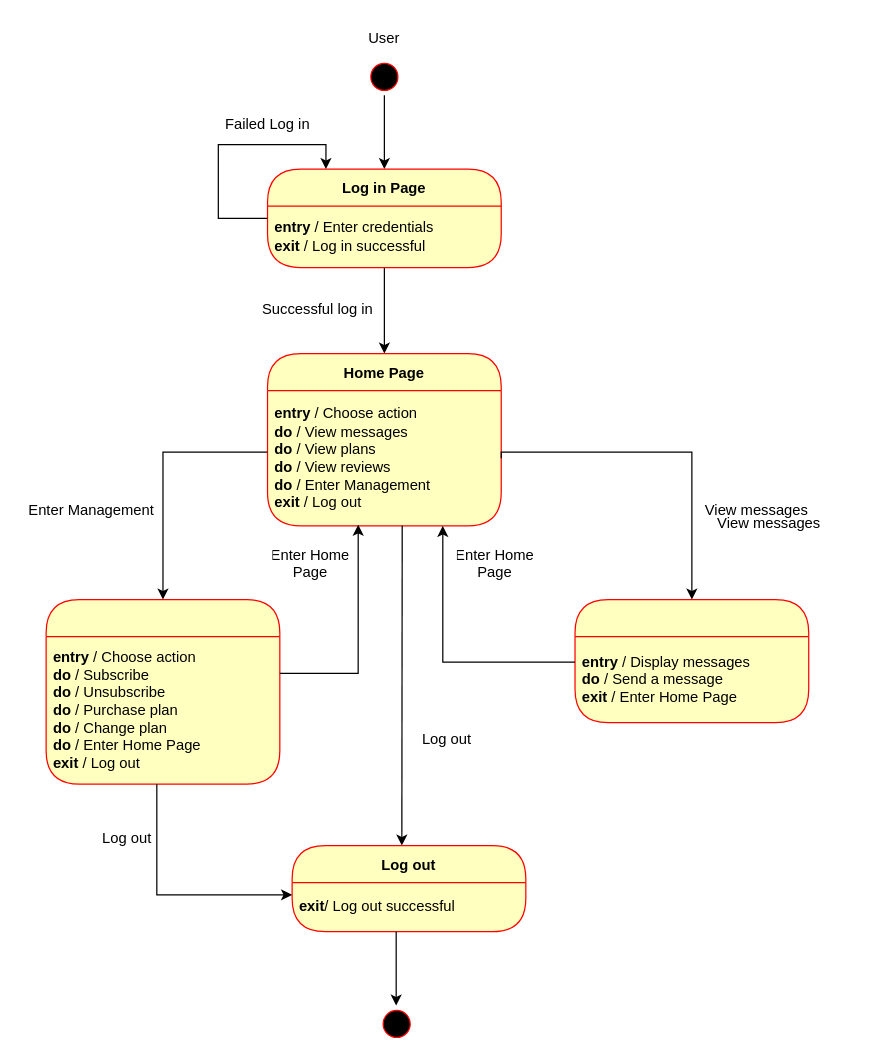
The diagram is 878 pixels wide and 1064 high, and some of its shapes have lost their labels. Here are the shapes that lost their labels. From the top down, the box of each, then its label:
(574, 598, 809, 723): Inbox
(45, 598, 280, 784): Management
